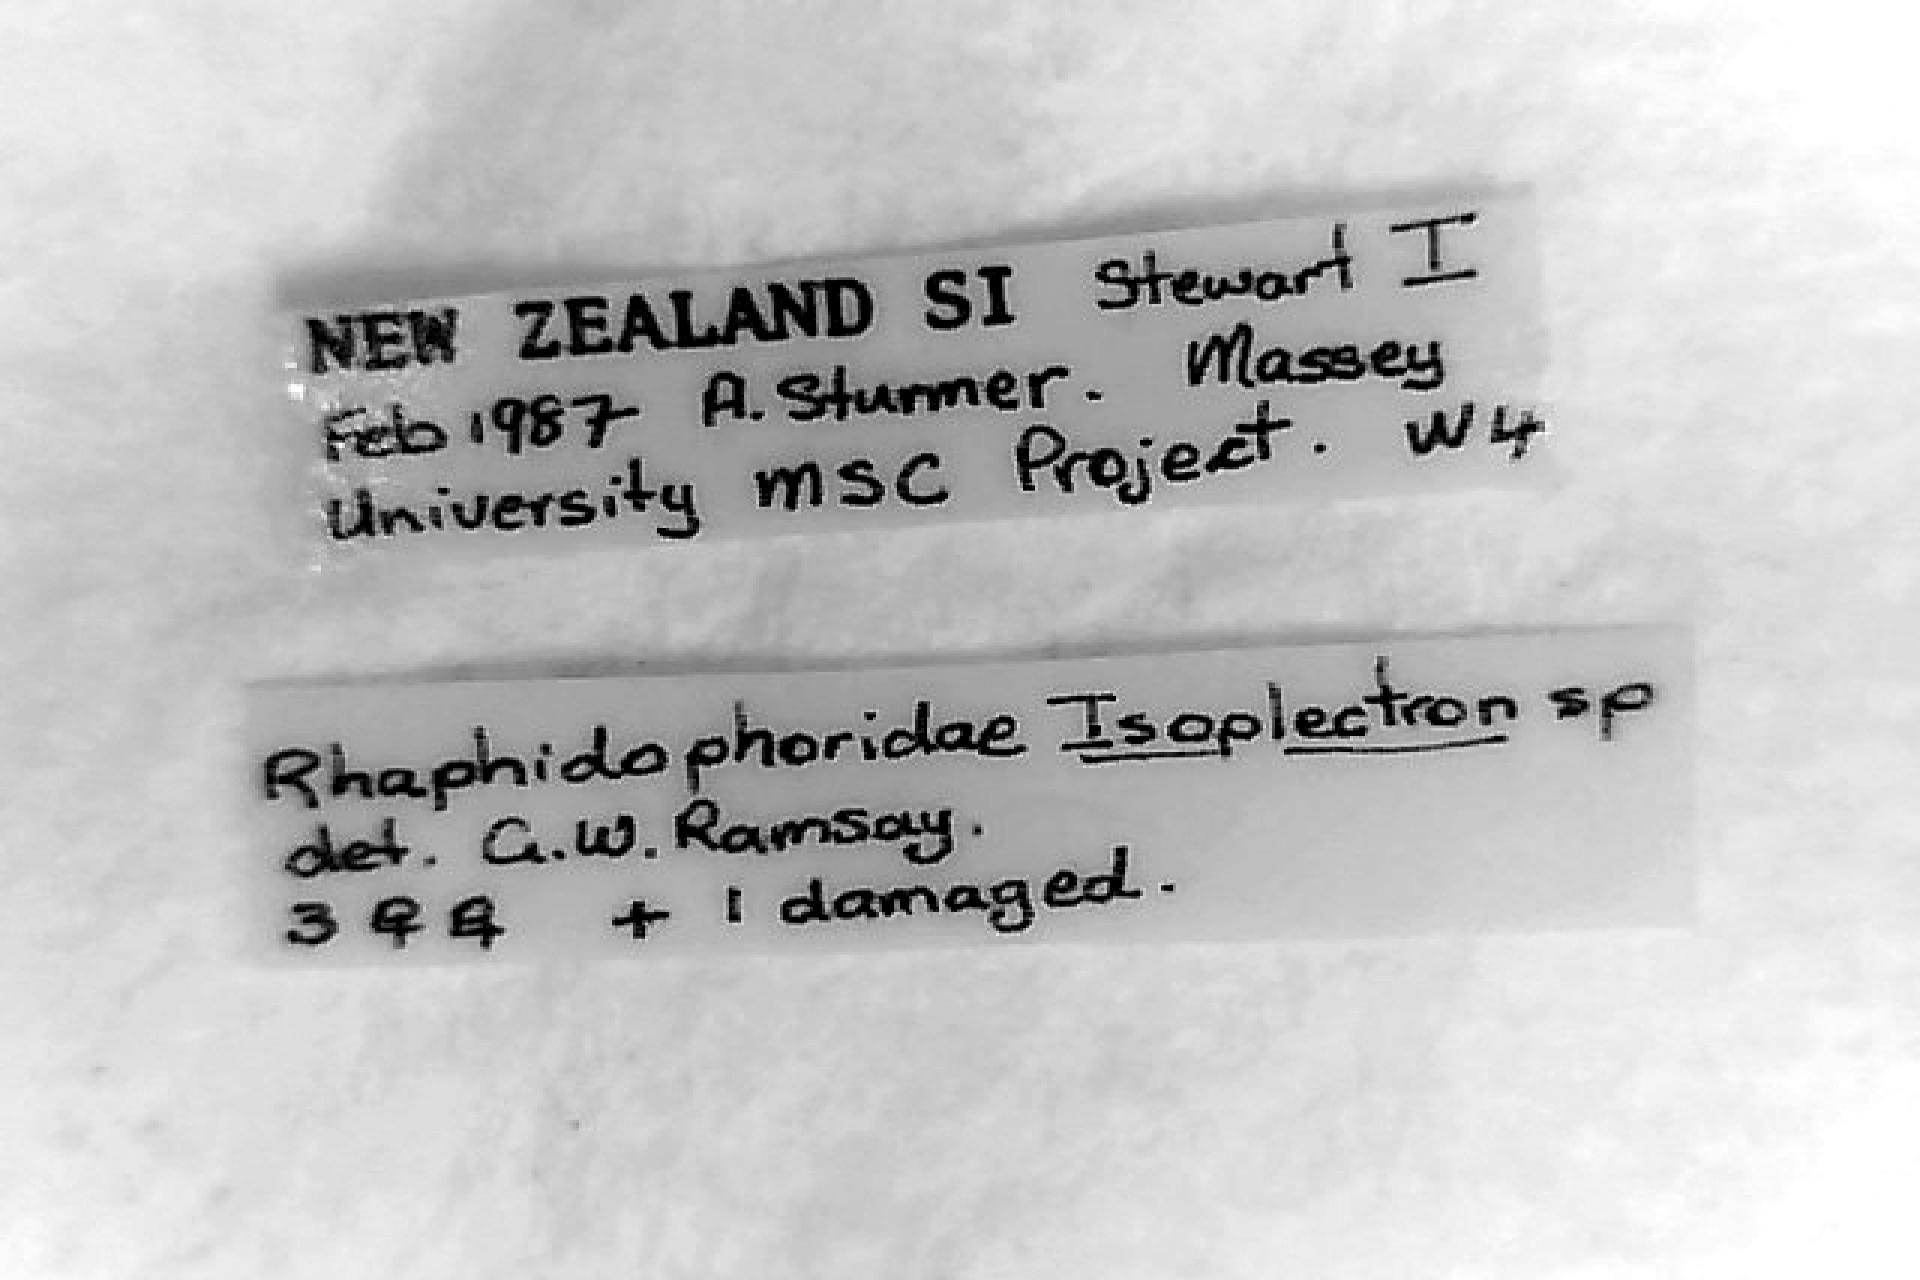hand_label: (255, 627, 1691, 960)
mixed_label: (289, 190, 1549, 557)
